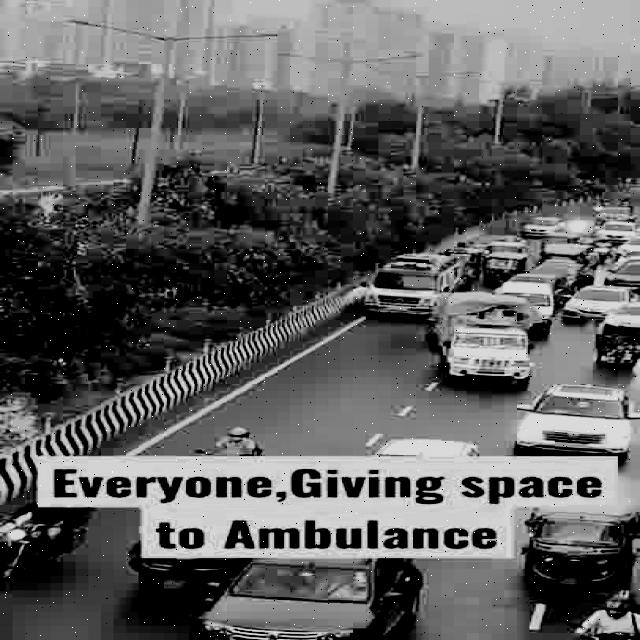Ambulance: (358, 248, 459, 309)
